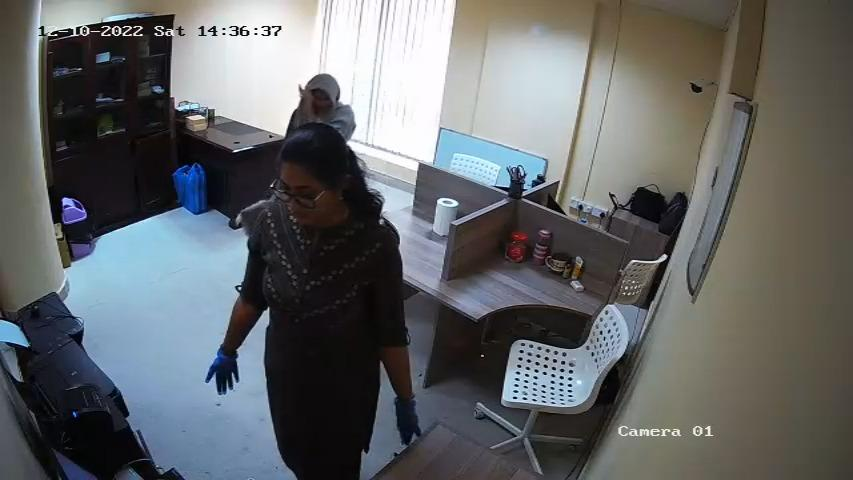gloves: (203, 347, 243, 396), (393, 397, 421, 444)
